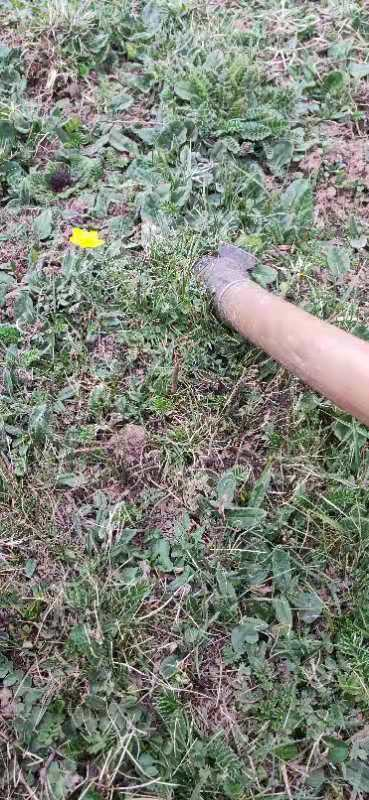Chongcao: (172, 362, 179, 395)
